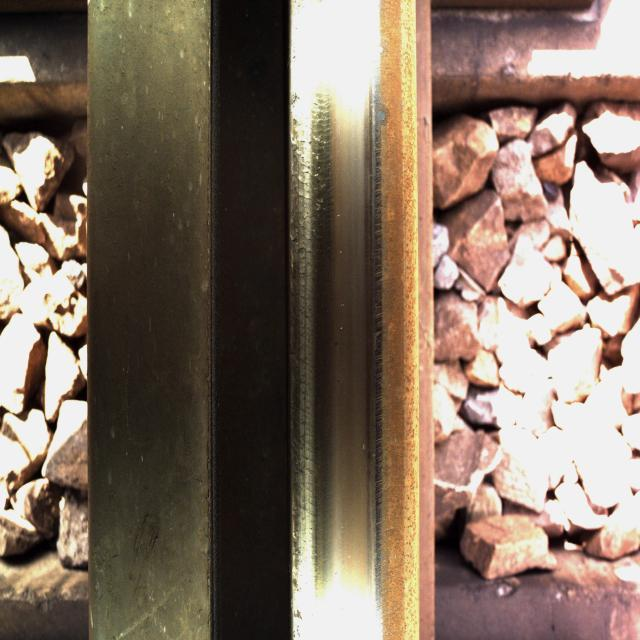normal: (297, 59, 378, 594)
